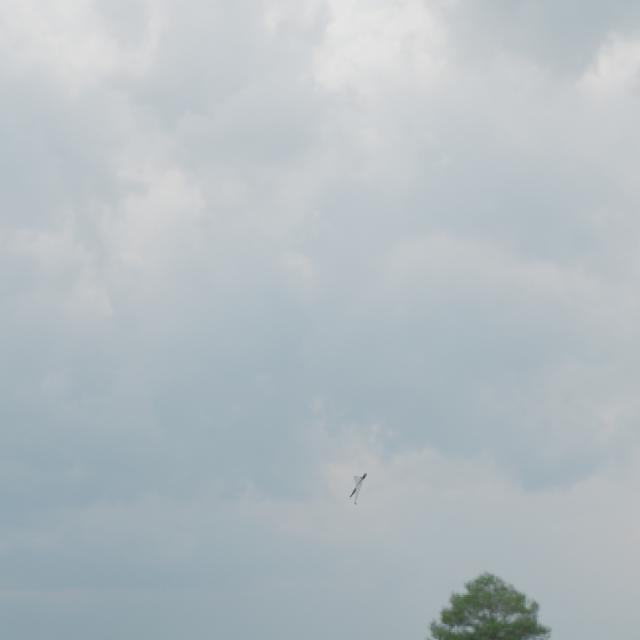Airaplan: (350, 473, 368, 505)
